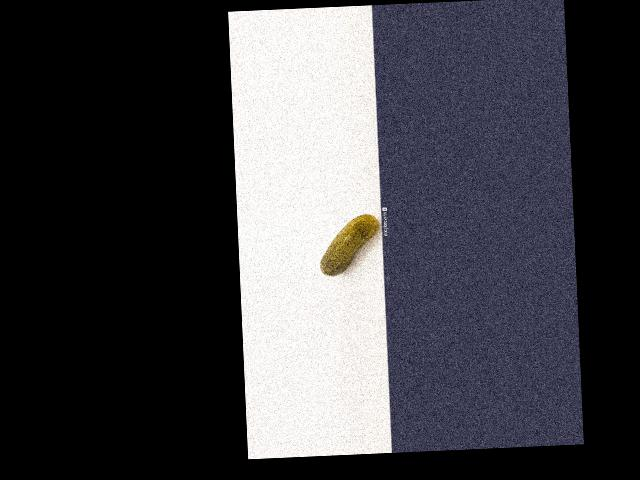cucumber: (318, 213, 380, 277)
